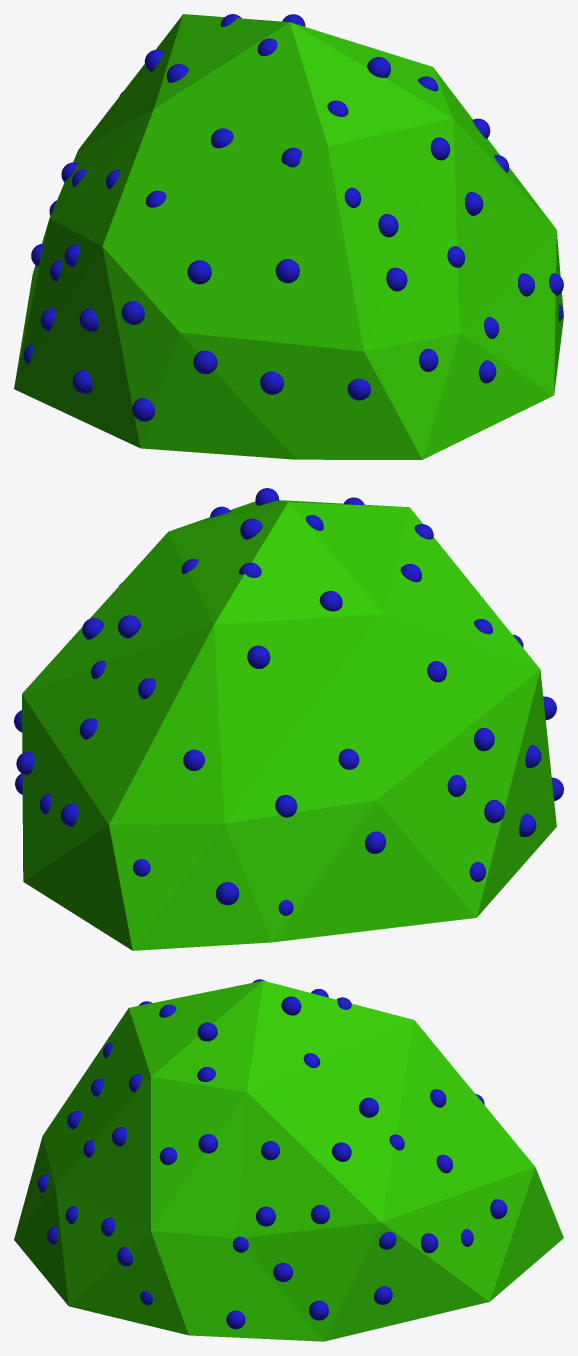
3 renders of one model, top to bottom at view 1: azimuth 30°, elevation 25°; view 2: azimuth 150°, elevation 25°; view 3: azimuth 270°, elevation 25°, orthographic. The views are drawn at different scales.
Parts seen in each view (by area): view 1: Bush; view 2: Bush; view 3: Bush.
Boxes of the visible parts, x1=… form: Bush: x1=14, y1=14, x2=563, y2=459; Bush: x1=14, y1=488, x2=563, y2=950; Bush: x1=14, y1=979, x2=563, y2=1341.
Bounding box in the file's own units: 2.34 × 1.62 × 2.88.
